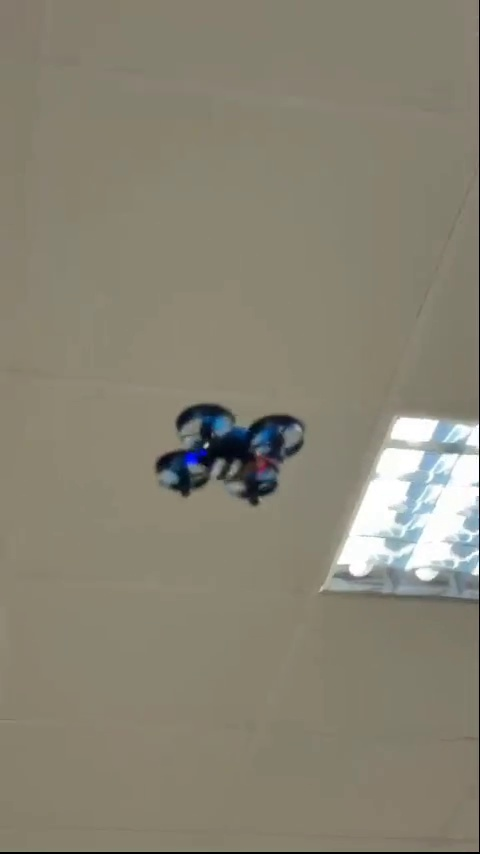drone: (146, 402, 301, 512)
